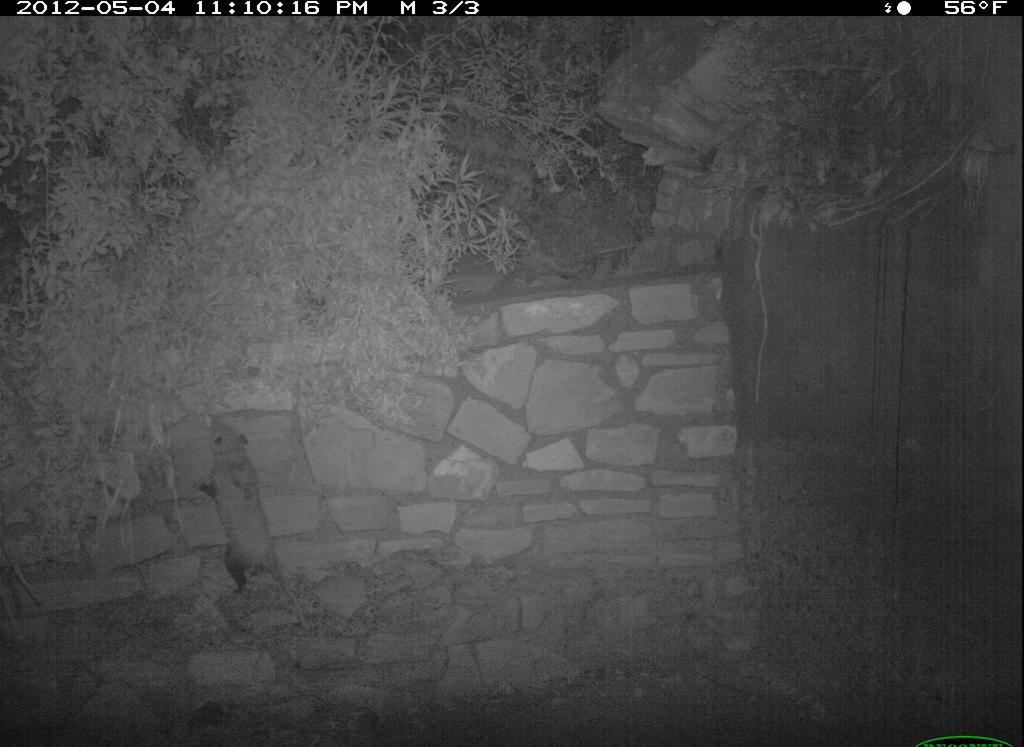opossum: (176, 406, 323, 651)
